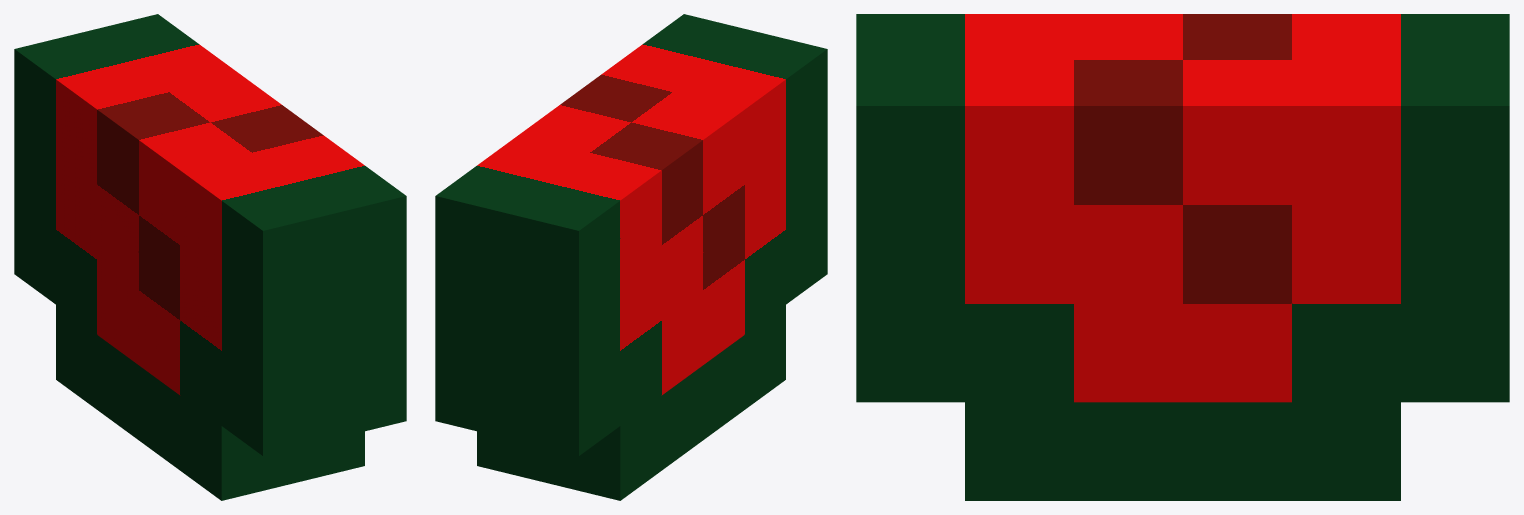
File: item_watermelon.fbx
3 views of the same model, side by side, from view 1: azimuth 30°, elevation 25°; view 2: azimuth 150°, elevation 25°; view 3: azimuth 270°, elevation 25° (orthographic). The views are drawn at different scales.
Visible parts, largest first — view 1: item_watermelon; view 2: item_watermelon; view 3: item_watermelon.
Part boxes in pixels (x1,y1,x2,y2): item_watermelon: [14, 14, 406, 500]; item_watermelon: [435, 14, 827, 500]; item_watermelon: [856, 14, 1509, 500].
Bounding box in the file's own units: 2 × 4 × 6.
